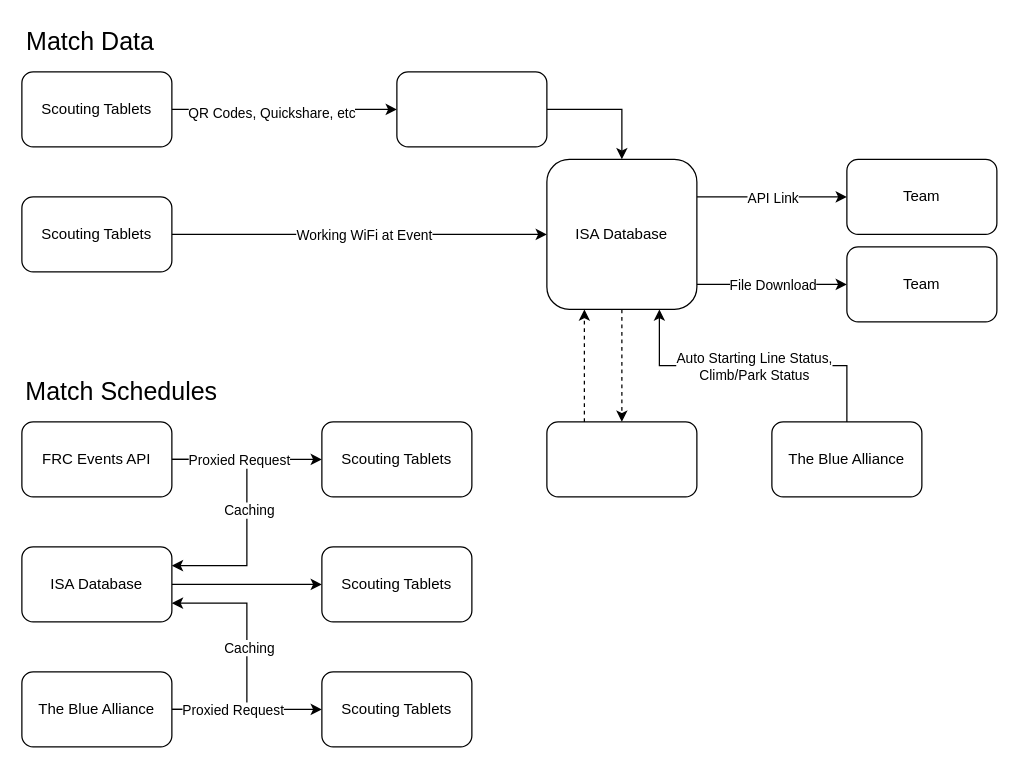
This 1019x769 diagram has some shape labels left out. Here are the shapes that lost their labels. From the top down, the centre of each, then its label:
At (471,109): "Relay Tablet w/ Internet".
At (621,459): "Semi-Live Error Checking Device (Future)".
